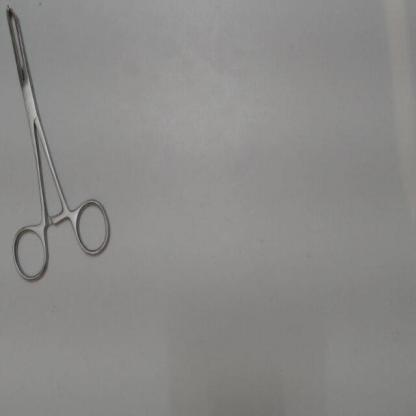Allis Tissue Forceps: (2, 1, 118, 291)
